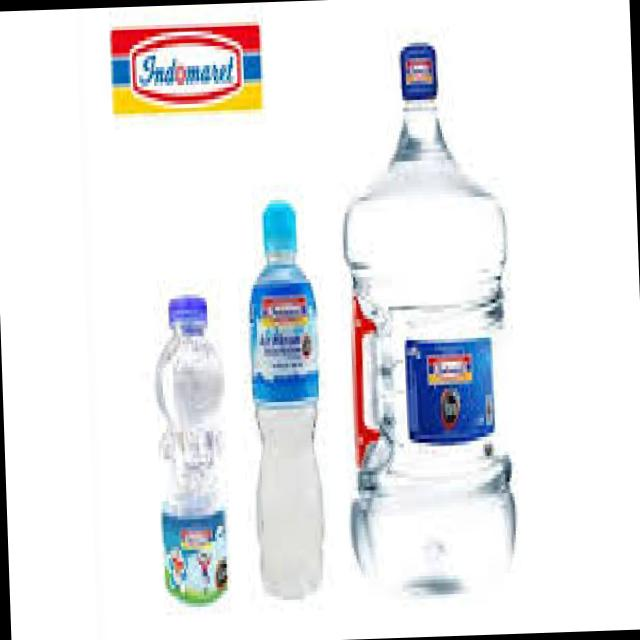BotolPlastik: (230, 174, 337, 605), (150, 285, 234, 623)
Galon: (332, 36, 522, 594)
